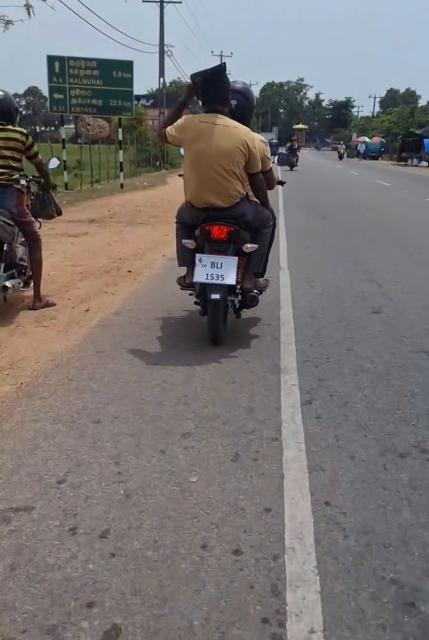no helmet: (192, 79, 236, 125)
number plate: (197, 250, 243, 285)
